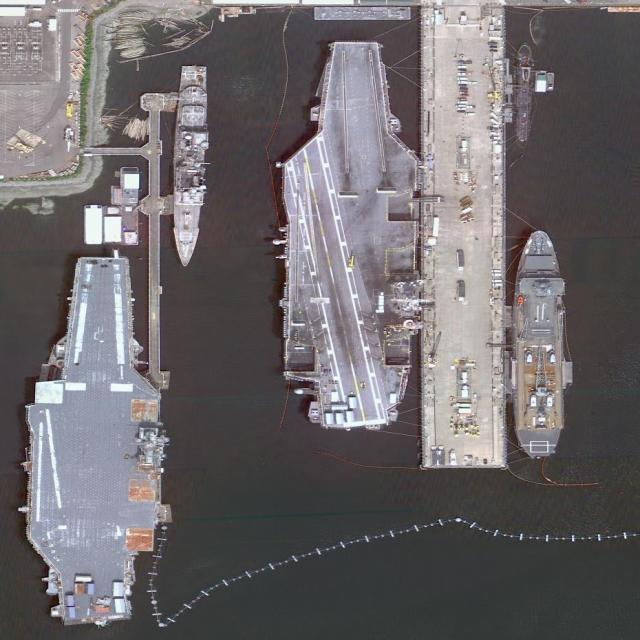Aircraft Carrier: (17, 255, 166, 627), (279, 41, 420, 428)
Cargo: (505, 229, 577, 458)
Cruiser: (170, 62, 210, 268)
Dock: (420, 6, 508, 469), (140, 92, 169, 387)
Submarine: (513, 44, 531, 140)
